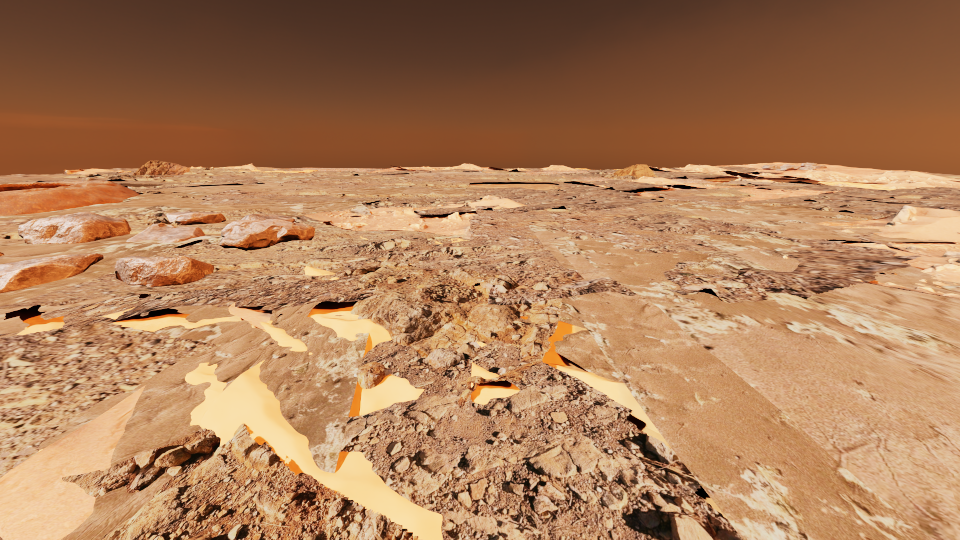bedrock: (40, 234, 742, 539), (62, 423, 417, 539), (592, 213, 920, 303), (276, 169, 672, 214), (710, 179, 959, 218), (50, 173, 265, 193), (0, 405, 54, 477), (296, 168, 533, 176), (143, 215, 224, 233), (634, 238, 724, 253), (653, 171, 725, 185), (463, 176, 580, 182), (522, 219, 565, 231), (718, 166, 776, 173), (679, 192, 758, 197), (312, 226, 350, 235), (553, 234, 599, 239), (183, 170, 224, 175), (0, 229, 22, 238), (227, 174, 293, 177), (200, 168, 245, 171), (0, 181, 54, 183), (130, 227, 147, 233), (99, 272, 115, 277), (937, 175, 959, 178), (225, 217, 243, 219)
rocks: (0, 254, 103, 292), (18, 211, 131, 244), (218, 213, 314, 250), (114, 256, 213, 286), (126, 223, 204, 242), (133, 160, 189, 175), (166, 212, 225, 224), (614, 164, 656, 177), (761, 163, 826, 170), (175, 240, 202, 247)
sand: (529, 225, 959, 539), (39, 301, 442, 539), (0, 176, 466, 219), (0, 234, 222, 304), (623, 188, 881, 241), (61, 473, 171, 539), (0, 296, 114, 337), (872, 266, 959, 294), (705, 184, 842, 201), (713, 162, 807, 175), (471, 380, 519, 404), (815, 164, 889, 176), (469, 182, 560, 189), (816, 181, 894, 189), (873, 234, 948, 241), (229, 167, 322, 172), (471, 362, 498, 378), (304, 266, 342, 275), (102, 308, 131, 318), (312, 175, 381, 179), (370, 167, 415, 172), (717, 280, 747, 287), (176, 182, 232, 185), (212, 220, 235, 226), (685, 182, 703, 187), (381, 253, 388, 264), (139, 294, 149, 297)
soil: (151, 203, 693, 259), (0, 321, 221, 436), (0, 266, 283, 308), (154, 167, 611, 189), (0, 174, 178, 215), (842, 232, 959, 285), (199, 189, 434, 205), (645, 184, 800, 207), (816, 207, 949, 229), (855, 280, 959, 297), (94, 386, 144, 419), (848, 194, 959, 203), (107, 213, 170, 227), (197, 209, 293, 215), (341, 256, 381, 267), (0, 218, 40, 228), (740, 173, 794, 180), (821, 178, 891, 183), (774, 178, 824, 184), (699, 169, 738, 176), (95, 168, 139, 174), (920, 178, 950, 186), (668, 170, 716, 175), (697, 177, 738, 182), (410, 167, 438, 173), (755, 185, 791, 189), (391, 259, 425, 263), (407, 186, 437, 188)
